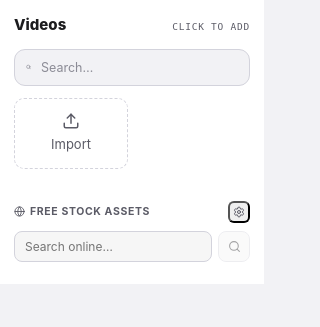
Test case: LibraryPanel — local media › reports a failed import
The image size is (320, 327).
Click the element with class "library-import-tile". click: point(71, 133)
box: [14,98,128,169]
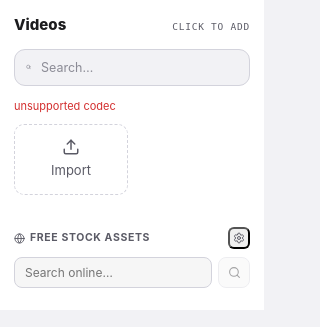
Expected: the text "unsupported codec" is shown, [14,98,116,112]
